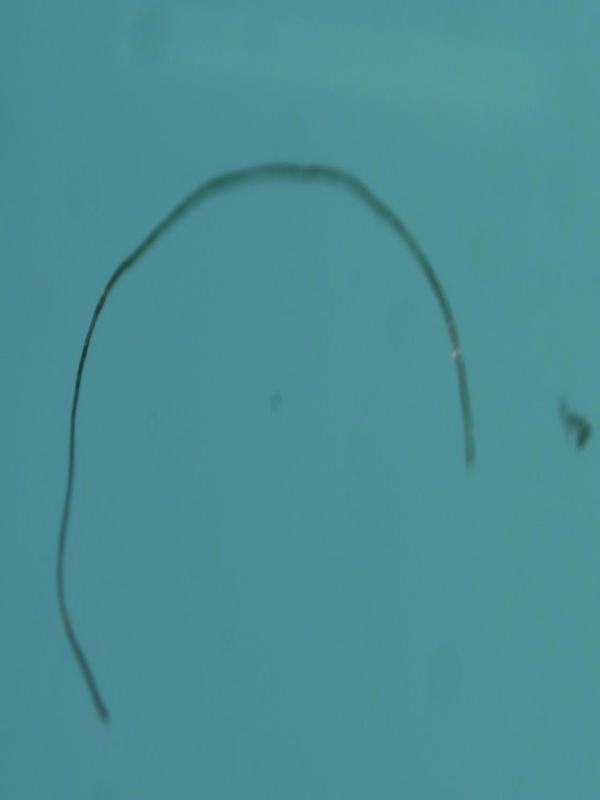microplastic: (55, 157, 477, 722)
